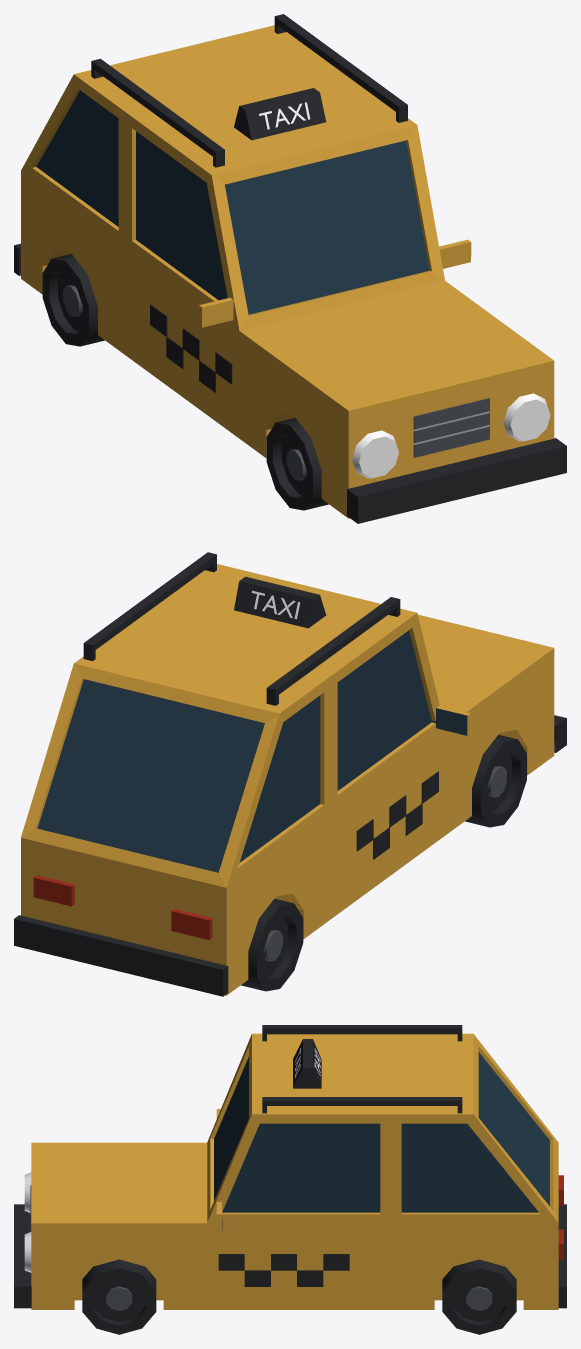
File: Taxi Car_1.fbx
3 views of the same model, one above another, from view 1: azimuth 30°, elevation 25°; view 2: azimuth 150°, elevation 25°; view 3: azimuth 270°, elevation 25° (orthographic). The views are drawn at different scales.
Parts seen in each view (by area): view 1: Taxi Car_1; view 2: Taxi Car_1; view 3: Taxi Car_1.
Boxes of the visible parts, x1,y1,x2,y2 form: Taxi Car_1: (14,14,566,523); Taxi Car_1: (14,552,566,996); Taxi Car_1: (14,1025,566,1334).
Size of the model in its own units: 199 by 210 by 440.
